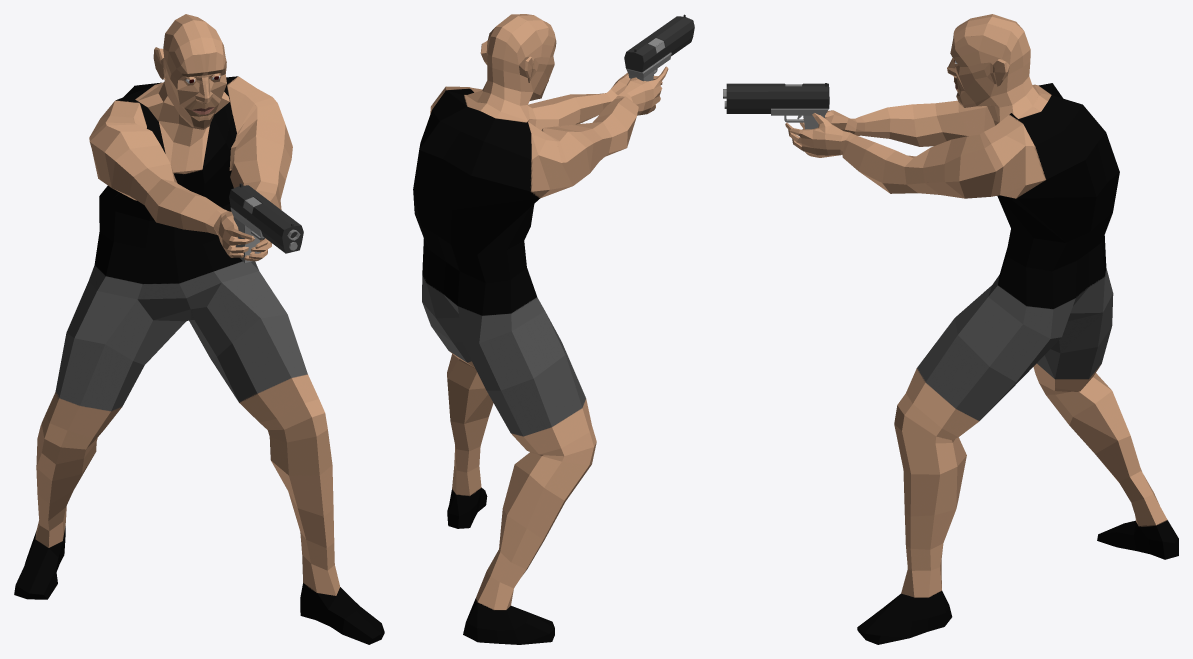
The model's file is PlayerShoot(0).obj.
3 renders of one model, left to right at view 1: azimuth 30°, elevation 25°; view 2: azimuth 150°, elevation 25°; view 3: azimuth 270°, elevation 25°, orthographic. The views are drawn at different scales.
Visible parts, largest first — view 1: Plane002, Box003; view 2: Plane002, Box003; view 3: Plane002, Box003.
Part boxes in pixels (left/top/right/bottom): Plane002: left=14, top=14, right=384, bottom=644; Box003: left=229, top=183, right=303, bottom=262; Plane002: left=413, top=14, right=668, bottom=644; Box003: left=624, top=14, right=694, bottom=81; Plane002: left=785, top=14, right=1178, bottom=644; Box003: left=723, top=83, right=829, bottom=151.
Size of the model in its own units: 716 by 1665 by 1212.
